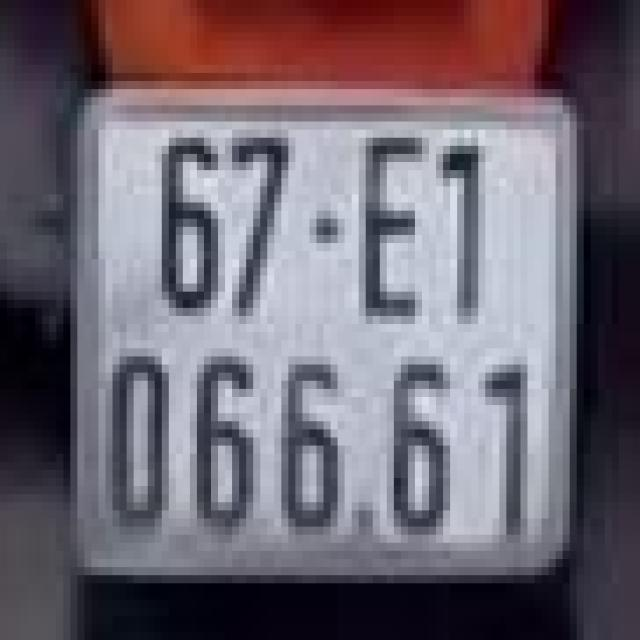0: (95, 336, 172, 547)
1: (432, 126, 496, 336), (482, 356, 538, 559)
6: (380, 340, 464, 551), (144, 118, 222, 328), (186, 336, 257, 531), (278, 344, 348, 531)
7: (214, 118, 299, 328)
E: (338, 114, 436, 332)
